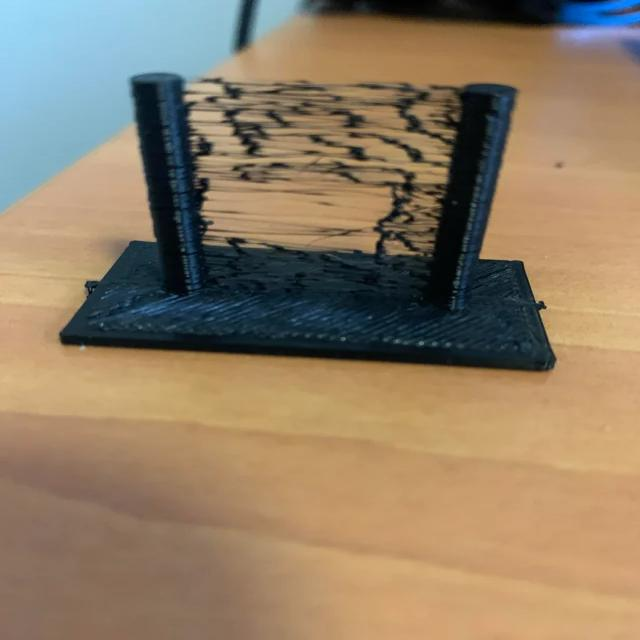Stringing: (188, 75, 460, 252)
